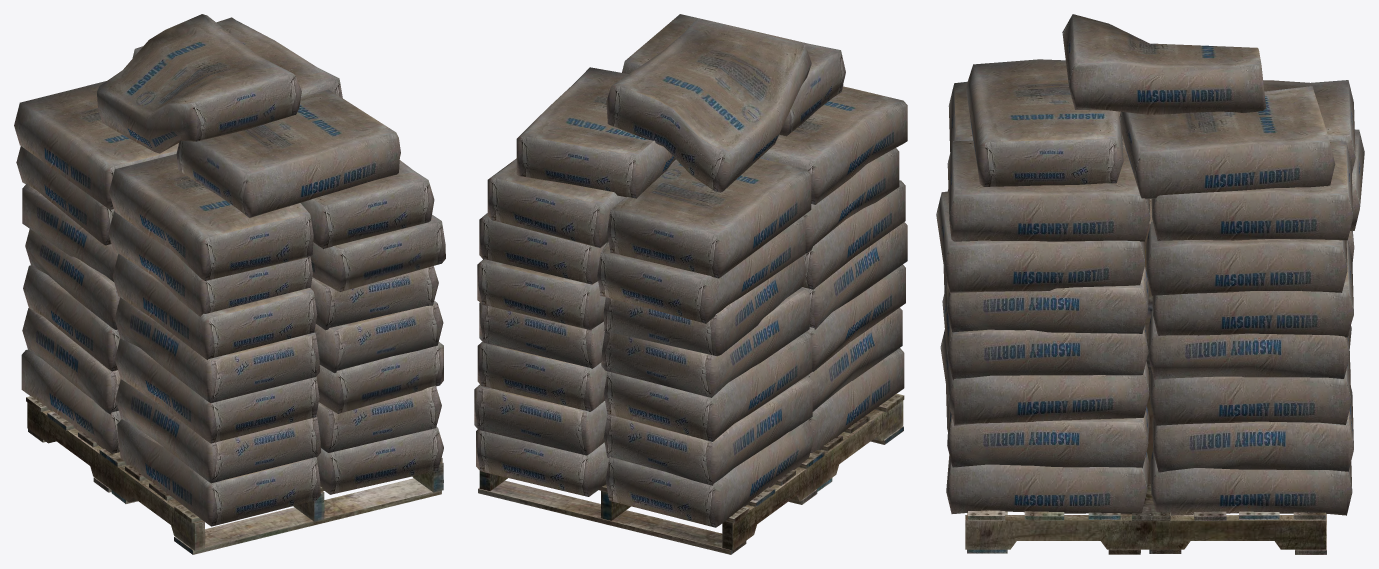
The model's file is concretebags.glb.
3 renders of one model, left to right at view 1: azimuth 30°, elevation 25°; view 2: azimuth 150°, elevation 25°; view 3: azimuth 270°, elevation 25°, orthographic. The views are drawn at different scales.
Parts seen in each view (by area): view 1: 1_concretebags, 0_Wood_Pallet_01; view 2: 1_concretebags, 0_Wood_Pallet_01; view 3: 1_concretebags, 0_Wood_Pallet_01.
Part boxes in pixels (left/top/right/bottom): 1_concretebags: left=14, top=14, right=445, bottom=526; 0_Wood_Pallet_01: left=26, top=396, right=443, bottom=554; 1_concretebags: left=474, top=14, right=907, bottom=527; 0_Wood_Pallet_01: left=478, top=393, right=904, bottom=554; 1_concretebags: left=936, top=14, right=1364, bottom=515; 0_Wood_Pallet_01: left=965, top=484, right=1326, bottom=554.
Size of the model in its own units: 1.24 by 1.9 by 1.69.
2 materials, 2 textured.
